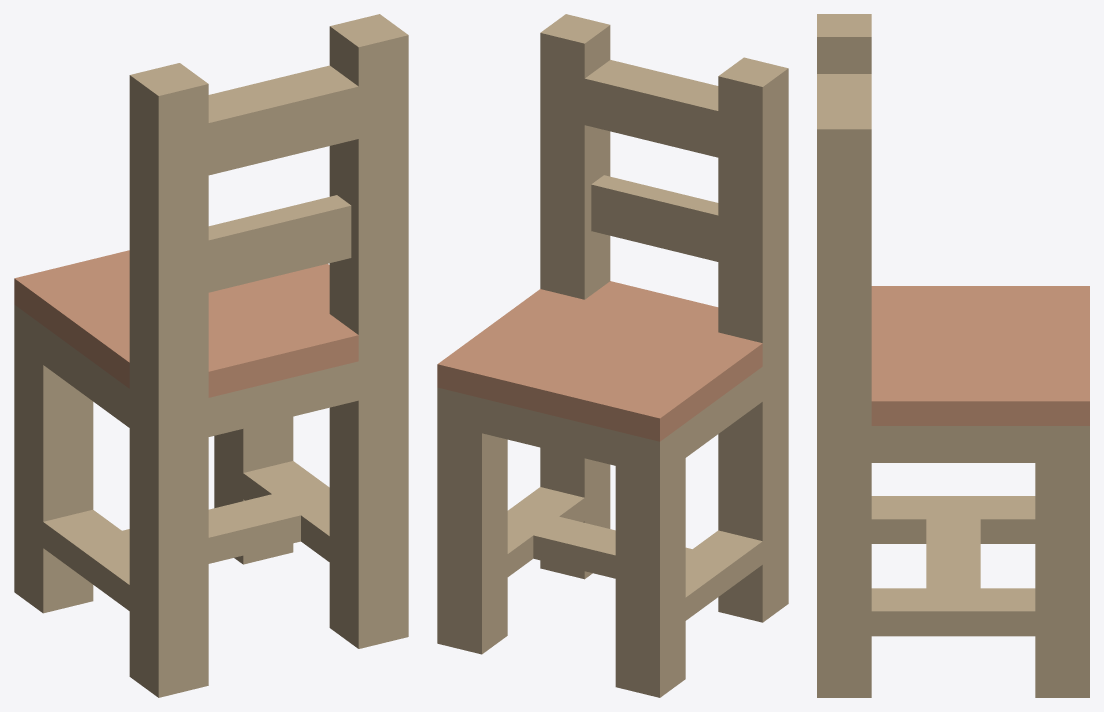
The model's file is furn_chair_cushion.glb.
3 views of the same model, side by side, from view 1: azimuth 30°, elevation 25°; view 2: azimuth 150°, elevation 25°; view 3: azimuth 270°, elevation 25° (orthographic). The views are drawn at different scales.
Visible parts, largest first — view 1: furn_chair_cushion; view 2: furn_chair_cushion; view 3: furn_chair_cushion.
Part boxes in pixels (<box>): furn_chair_cushion: <box>14,14,408,697</box>; furn_chair_cushion: <box>437,14,788,697</box>; furn_chair_cushion: <box>817,14,1089,697</box>.
Size of the model in its own units: 0.4 by 0.92 by 0.4.
